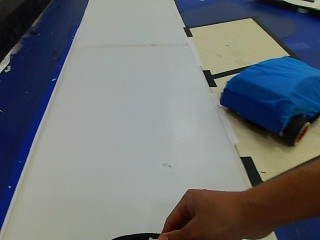car: (217, 62, 318, 142)
